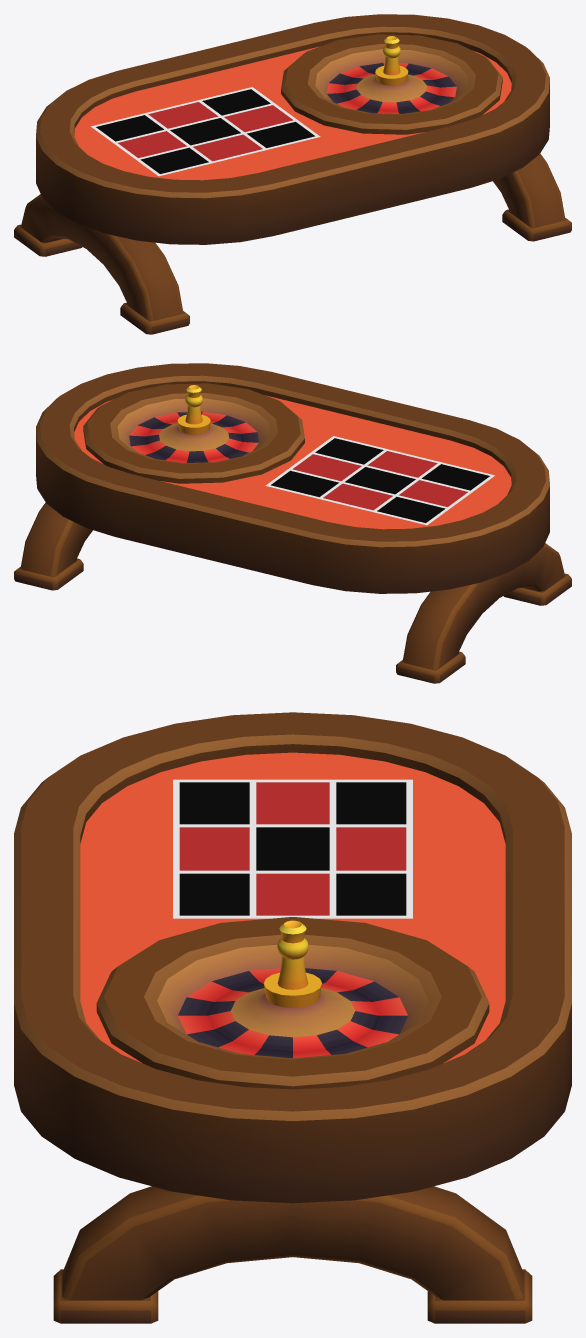
The model's file is Roulette_table_02.fbx.
The picture shows the model from 3 angles, top to bottom: view 1: azimuth 30°, elevation 25°; view 2: azimuth 150°, elevation 25°; view 3: azimuth 270°, elevation 25°; orthographic projection. The views are drawn at different scales.
Parts seen in each view (by area): view 1: Roulette_table_02, Roulette_spinner_02; view 2: Roulette_table_02, Roulette_spinner_02; view 3: Roulette_table_02, Roulette_spinner_02.
Part boxes in pixels (x1=…): Roulette_table_02: x1=14, y1=14, x2=571, y2=334; Roulette_spinner_02: x1=281, y1=34, x2=502, y2=134; Roulette_table_02: x1=14, y1=363, x2=571, y2=683; Roulette_spinner_02: x1=83, y1=383, x2=304, y2=483; Roulette_table_02: x1=14, y1=712, x2=571, y2=1323; Roulette_spinner_02: x1=96, y1=917, x2=489, y2=1089.
Bounding box in the file's own units: 3.32 × 1.93 × 1.15.
